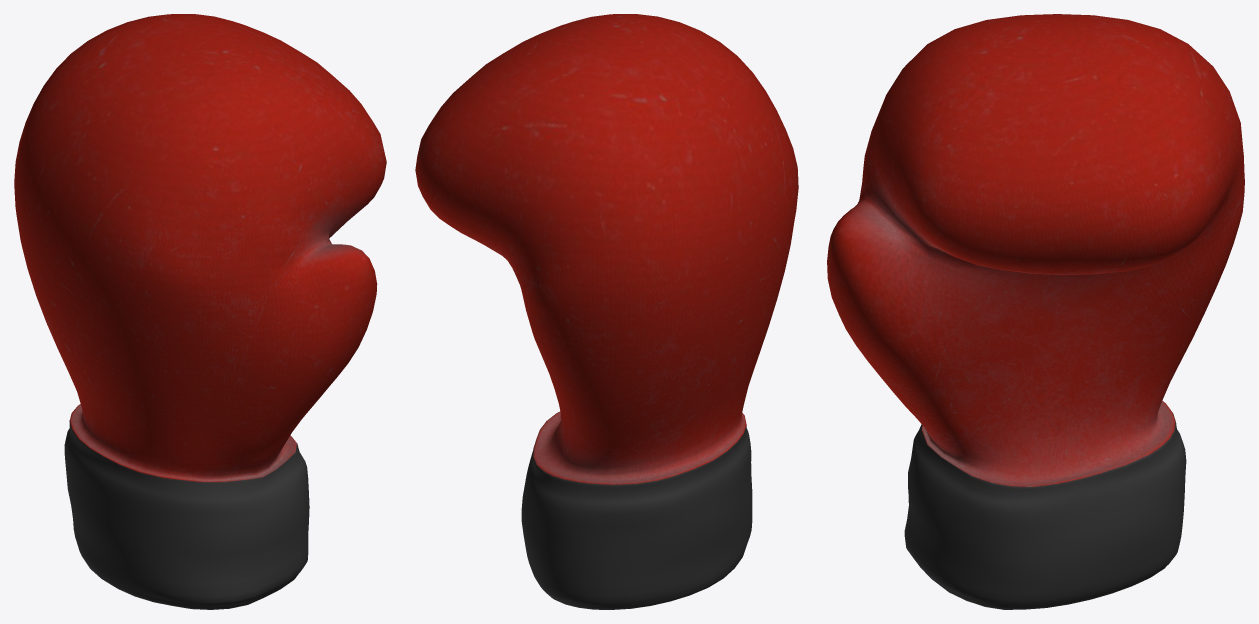
File: boxing_glove.glb
3 renders of one model, left to right at view 1: azimuth 30°, elevation 25°; view 2: azimuth 150°, elevation 25°; view 3: azimuth 270°, elevation 25°, orthographic. The views are drawn at different scales.
Parts seen in each view (by area): view 1: Glove_0; view 2: Glove_0; view 3: Glove_0.
Part boxes in pixels (x1,y1,x2,y2): Glove_0: (14, 14, 386, 609); Glove_0: (415, 14, 798, 609); Glove_0: (827, 14, 1244, 609).
Size of the model in its own units: 6.02 by 9.99 by 6.98.
1 material, 1 textured.
